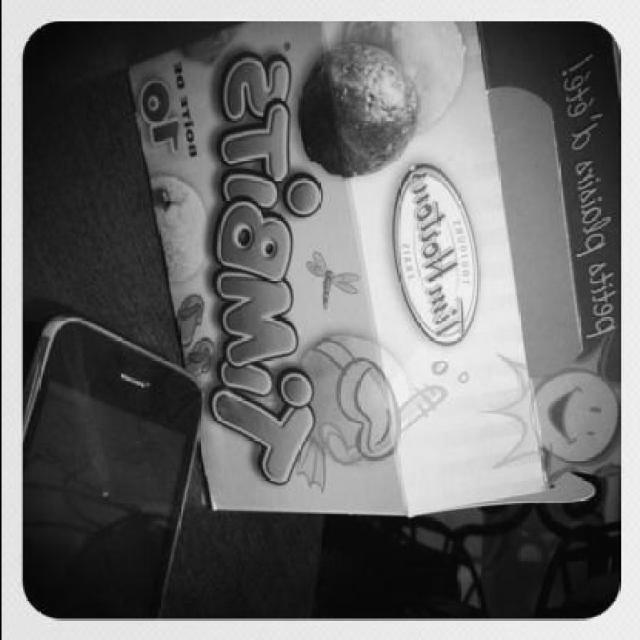fake: (18, 291, 188, 624)
